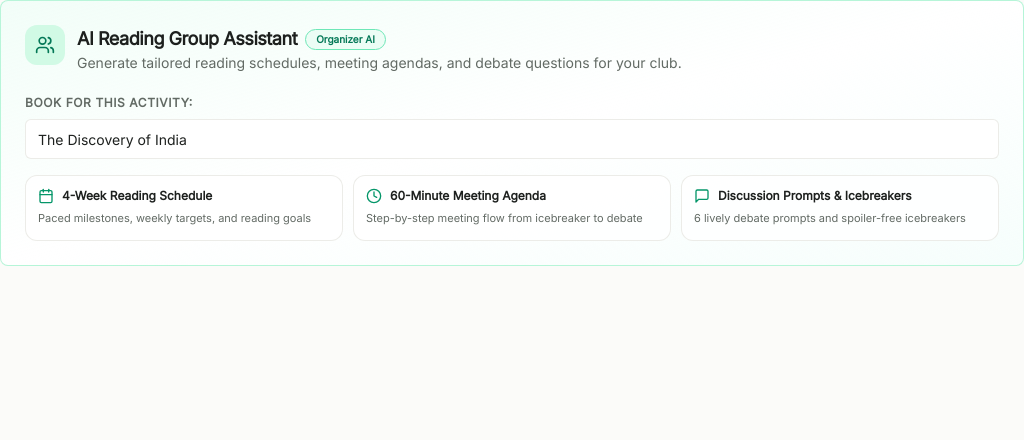
Test case: AIReadingGroupAssistant › generates agenda on button click and displays output
Step 1. Click the button "4-Week Reading Schedule" → (184, 208), box [25,175,343,241]
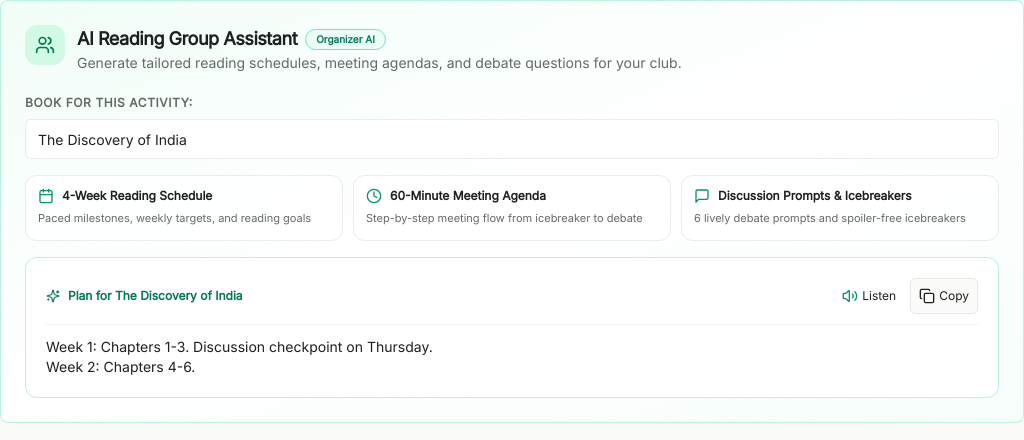
Expected: the text "Week 1: Chapters 1-3" is shown, [46,338,433,375]
